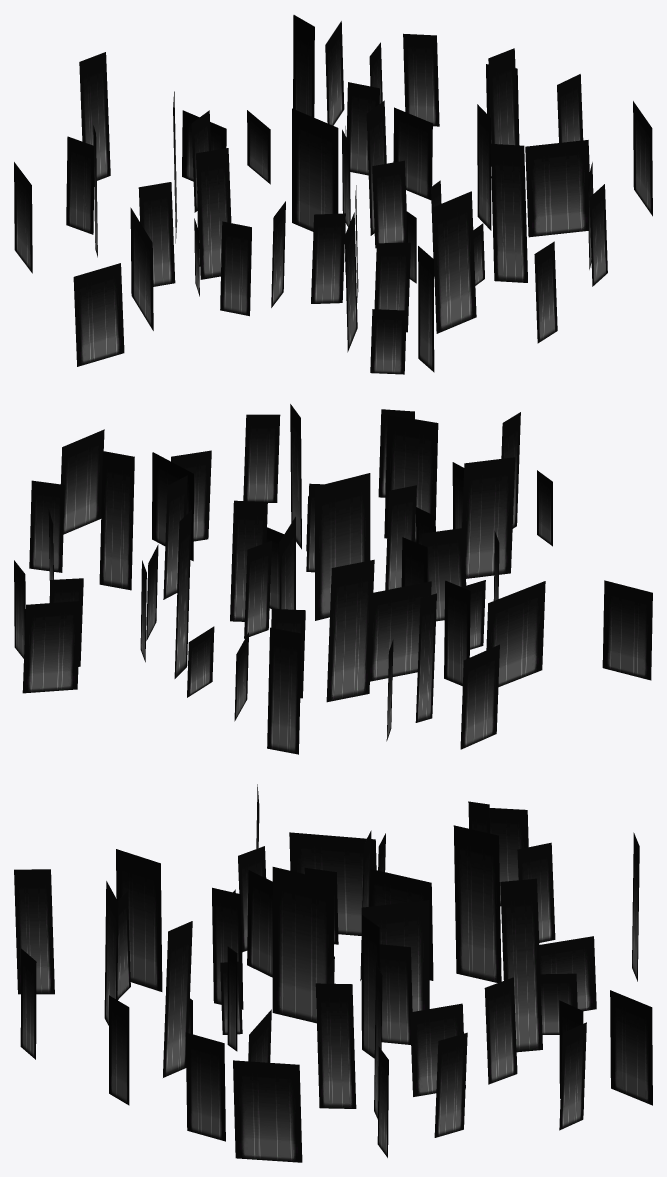
File: 0299_guangsu.glb
3 renders of one model, top to bottom at view 1: azimuth 30°, elevation 25°; view 2: azimuth 150°, elevation 25°; view 3: azimuth 270°, elevation 25°, orthographic. The views are drawn at different scales.
Bounding box in the file's own units: 2.2 × 0.6227 × 1.95.
Materials: 1 (1 with a texture image).
